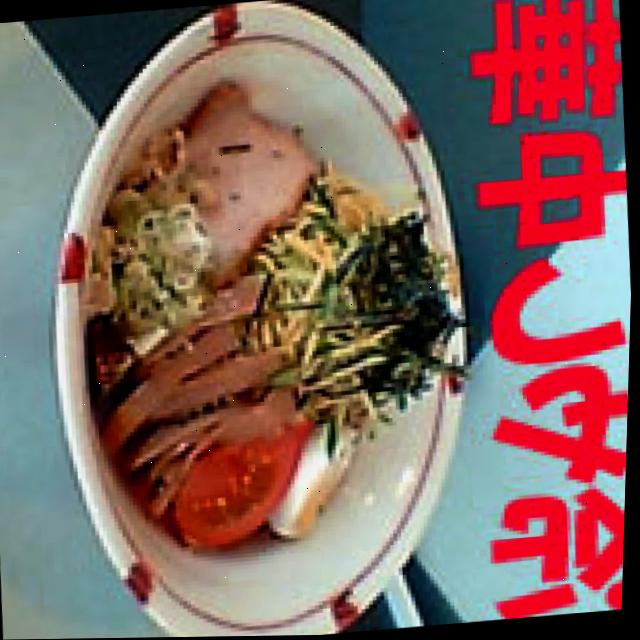面条主食: (17, 0, 504, 640)
